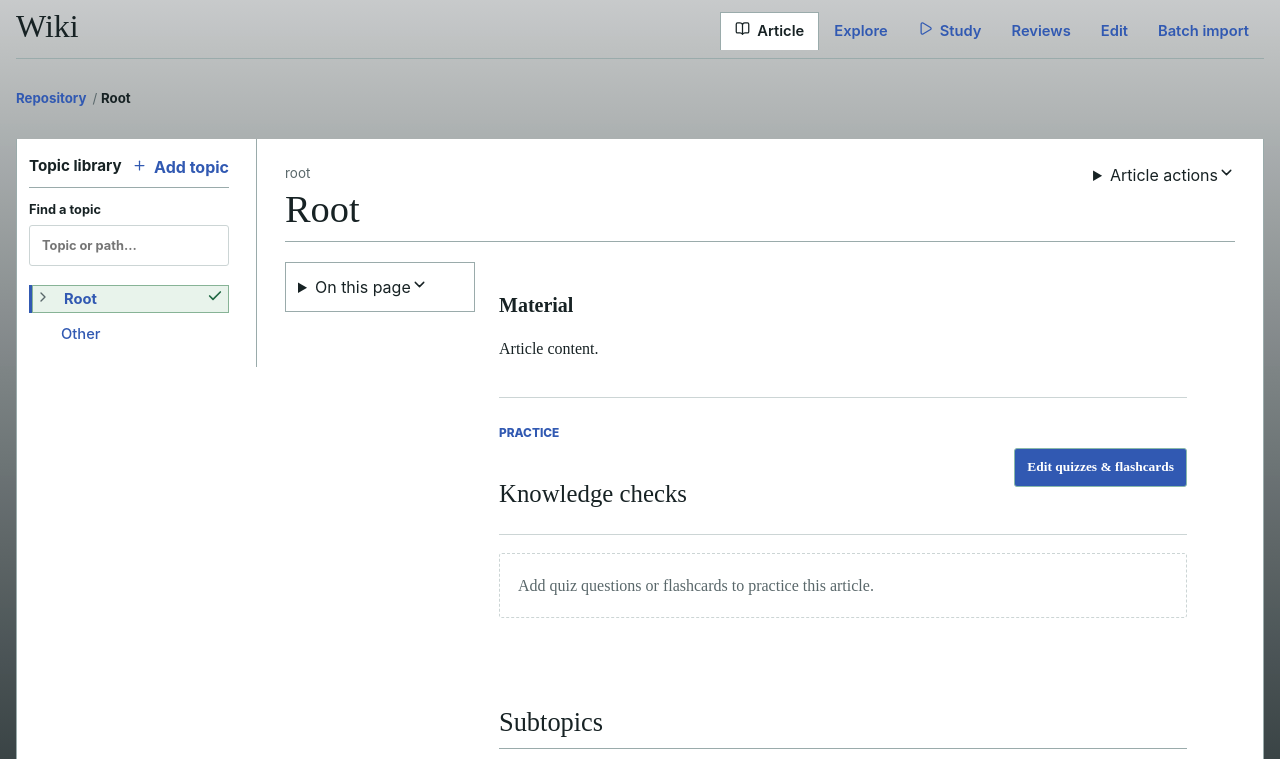
Test: pins the tree on landscape tablets, but gives the full workspace to editing and study
The width and height of the screenshot is (1280, 759).
Check: the heading "Root" is shown, box [285,187,360,231]
Check: the element named "Wiki topic tree" is shown, box [17,139,257,367]
Click the button "Edit": {"x": 1114, "y": 31} [1086,12,1143,50]
(page scrolled)
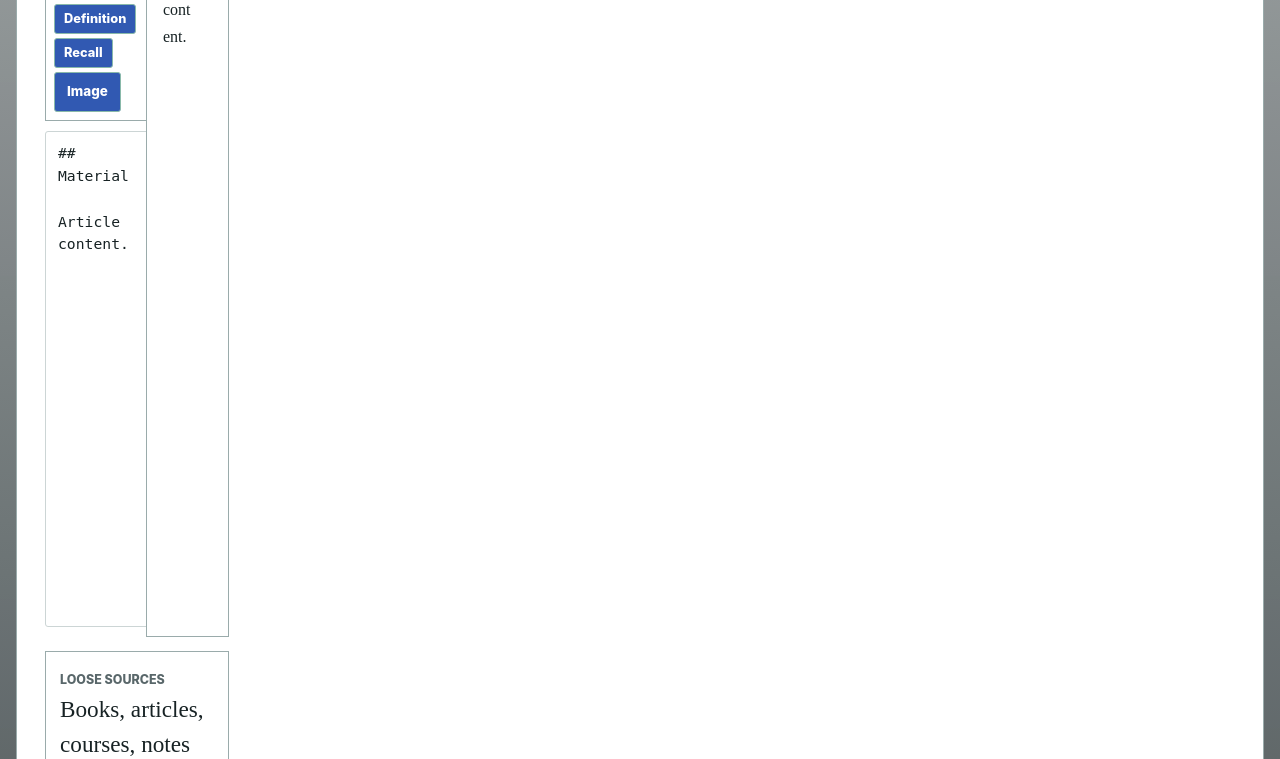
Check: the text box named "Article source" is shown, box [45,131,159,627]
